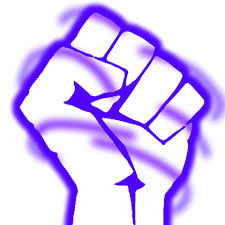fist: (38, 20, 208, 198)
